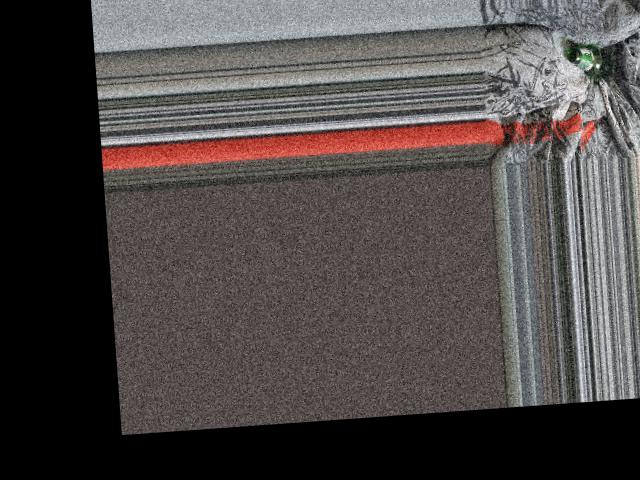beer: (566, 42, 613, 79)
